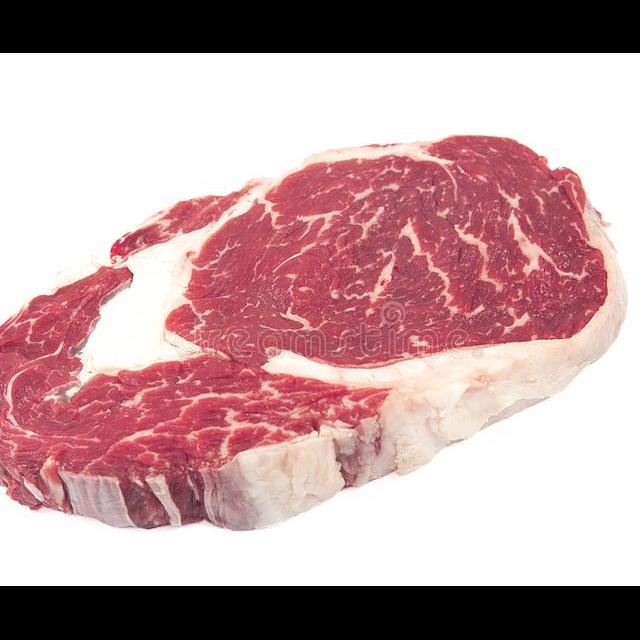beef: (0, 136, 628, 530)
